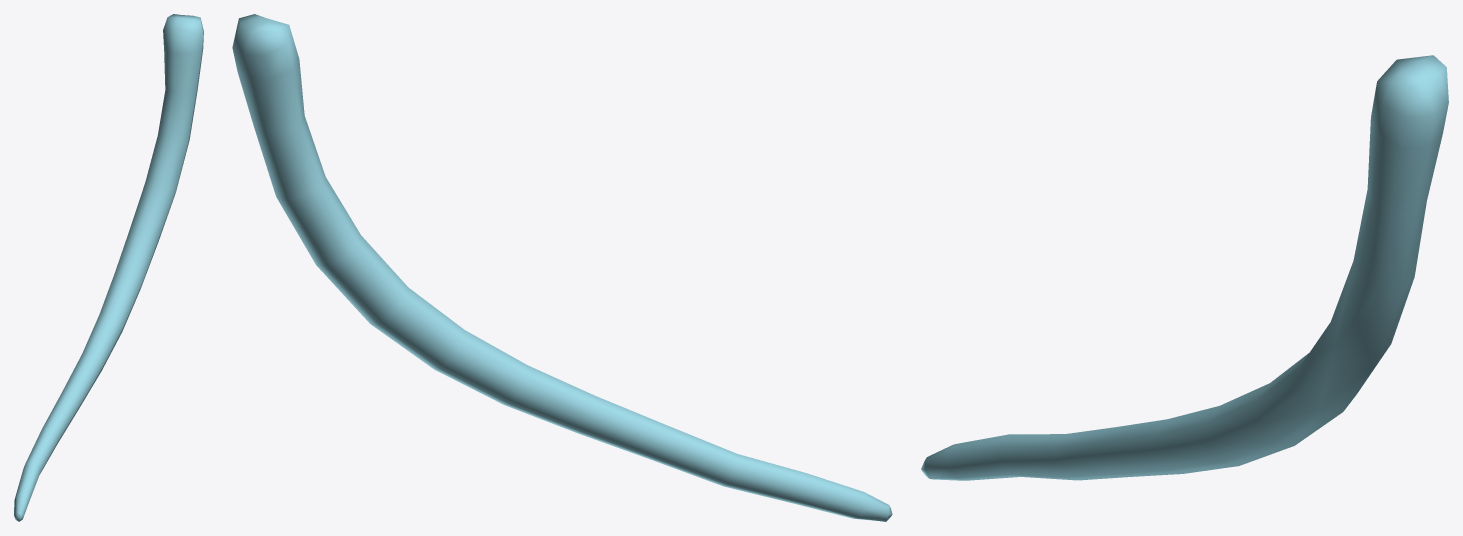
The picture shows the model from 3 angles, left to right: view 1: azimuth 30°, elevation 25°; view 2: azimuth 150°, elevation 25°; view 3: azimuth 270°, elevation 25°; orthographic projection. The views are drawn at different scales.
Parts seen in each view (by area): view 1: CC L8; view 2: CC L8; view 3: CC L8.
Part boxes in pixels (bbox=[...]): CC L8: bbox=[14, 14, 203, 521]; CC L8: bbox=[232, 14, 892, 521]; CC L8: bbox=[921, 55, 1448, 480].
Size of the model in its own units: 2.94 by 3.16 by 2.19.
